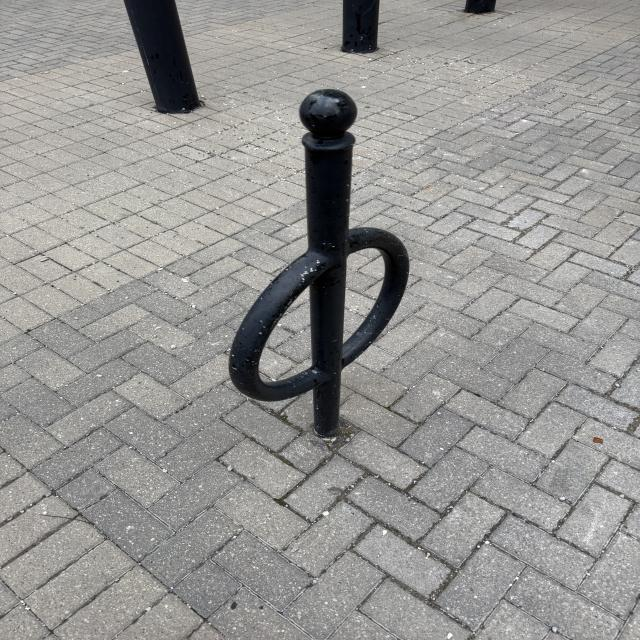Bicycle Rack: (229, 90, 412, 438)
